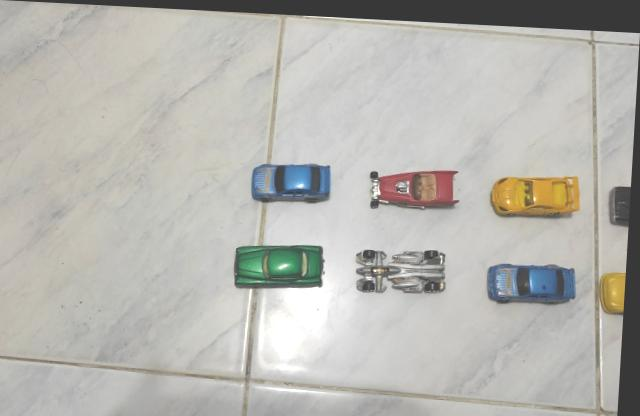01_FORD: (609, 179, 633, 221)
02_OZSOME: (601, 266, 629, 309)
03_V8: (371, 165, 461, 206)
04_MERZEDES: (490, 259, 580, 299), (252, 161, 334, 201)
05_DC121: (356, 245, 450, 291)
06_MASERATI: (236, 242, 327, 288)
07_RHLTURBO: (491, 170, 582, 213)
